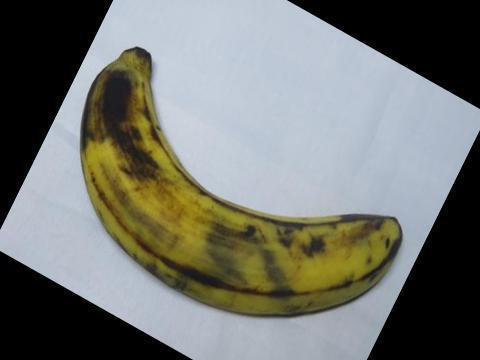overripe: (71, 35, 414, 320)
